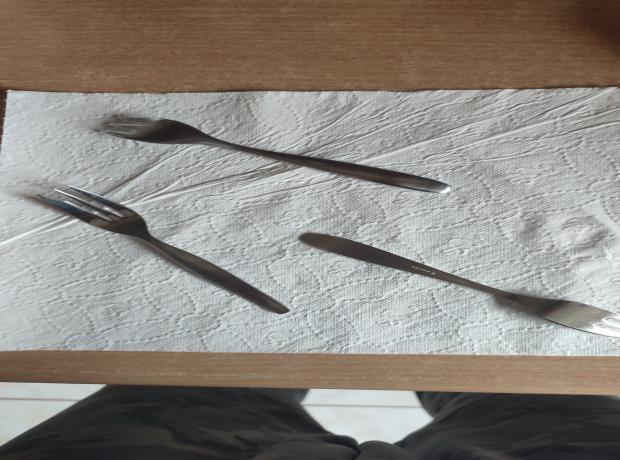metal: (300, 232, 620, 338), (37, 186, 289, 314), (98, 115, 453, 193)
